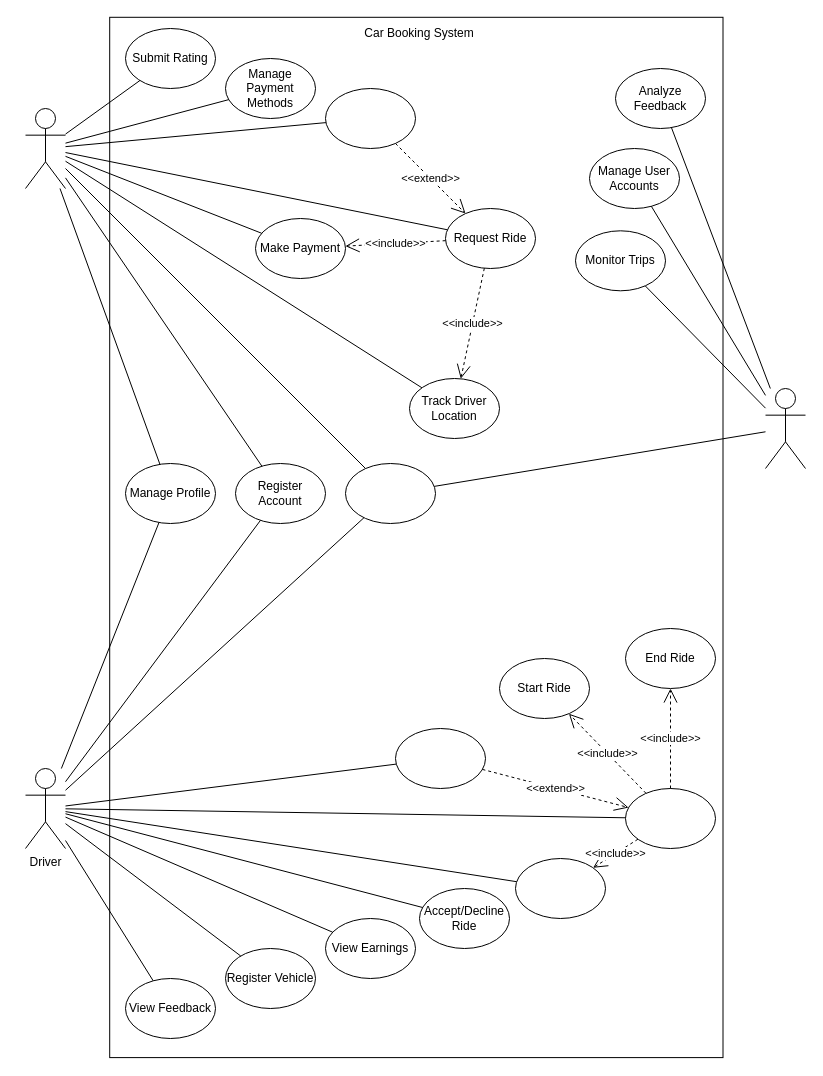
Image size: 823x1076. Some labels were removed from this diagram. The shapes that lost their labels are listed below. From the top down, each one's centre as x and y in pixels, then its label:
At point (370, 118): "Cancel Ride".
At point (45, 148): "Passenger".
At point (785, 428): "Admin".
At point (390, 493): "Login".
At point (440, 758): "Contact Passenger".
At point (670, 818): "Execute Ride".
At point (560, 888): "View Route Navigation".
